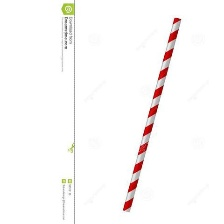drinking_straw: (117, 12, 187, 216)
